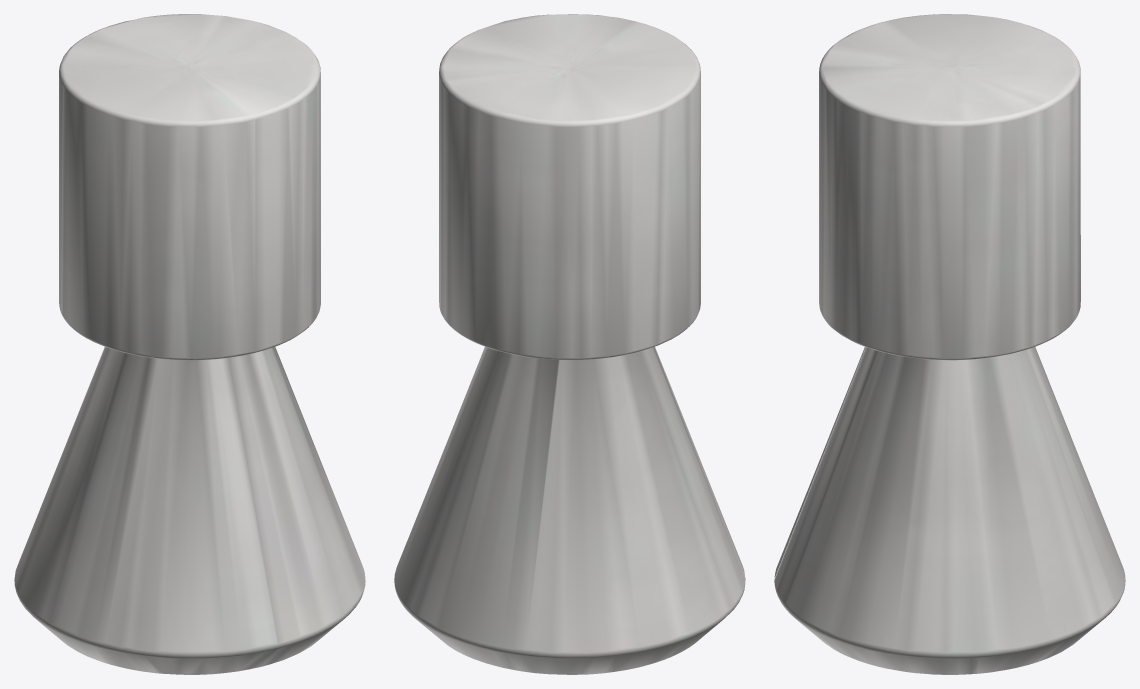
The model's file is 05_jezdec_bila.glb.
3 renders of one model, left to right at view 1: azimuth 30°, elevation 25°; view 2: azimuth 150°, elevation 25°; view 3: azimuth 270°, elevation 25°, orthographic.
Parts seen in each view (by area): view 1: 05_jezdec_bila; view 2: 05_jezdec_bila; view 3: 05_jezdec_bila.
Boxes of the visible parts, x1,y1,x2,y2 form: 05_jezdec_bila: (14, 14, 365, 674); 05_jezdec_bila: (394, 14, 745, 674); 05_jezdec_bila: (774, 14, 1125, 674).
Bounding box in the file's own units: 0.0413 × 0.0711 × 0.0413.
1 material, 1 textured.
